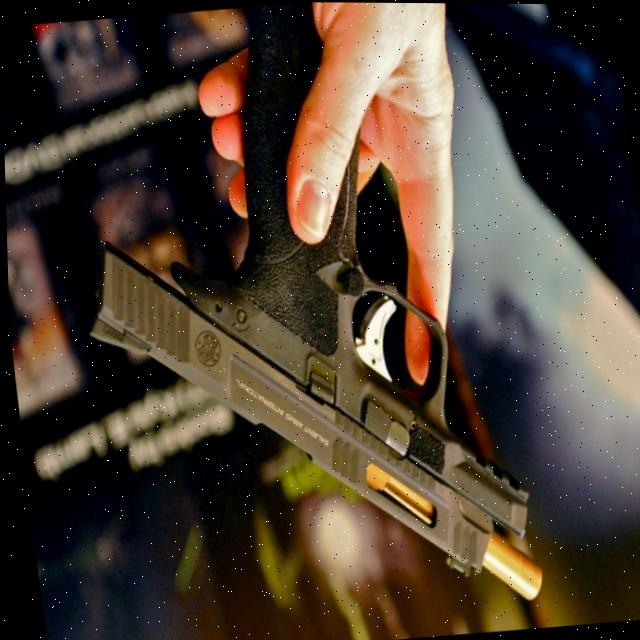pistol: (61, 0, 542, 634)
